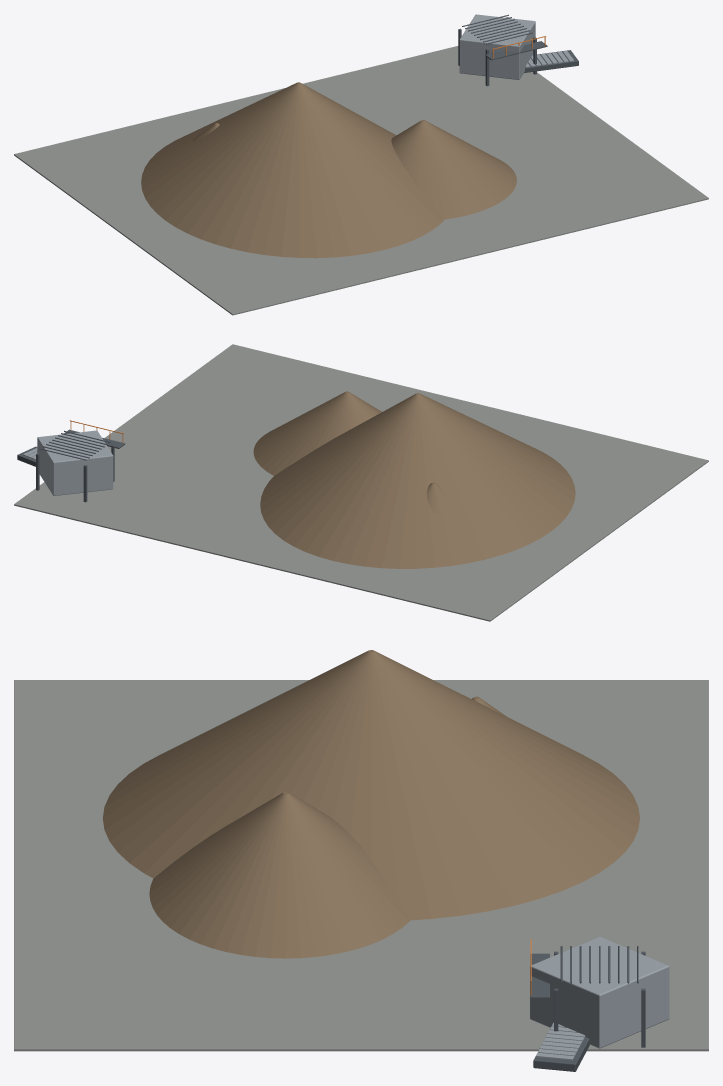
File: STOCKPILE-RECLAIM.glb
3 views of the same model, one above another, from view 1: azimuth 30°, elevation 25°; view 2: azimuth 150°, elevation 25°; view 3: azimuth 270°, elevation 25° (orthographic). The views are drawn at different scales.
Parts seen in each view (by area): view 1: STOCKPILE-RECLAIM_PAD, STOCKPILE-RECLAIM, STOCKPILE-RECLAIM_HOPPER; view 2: STOCKPILE-RECLAIM_PAD, STOCKPILE-RECLAIM, STOCKPILE-RECLAIM_HOPPER; view 3: STOCKPILE-RECLAIM_PAD, STOCKPILE-RECLAIM, STOCKPILE-RECLAIM_HOPPER, STOCKPILE-RECLAIM_FEEDER.
Part boxes in pixels (x1,y1,x2,y2): STOCKPILE-RECLAIM_PAD: (14, 46, 708, 315); STOCKPILE-RECLAIM: (141, 14, 574, 258); STOCKPILE-RECLAIM_HOPPER: (459, 14, 535, 79); STOCKPILE-RECLAIM_PAD: (14, 344, 708, 621); STOCKPILE-RECLAIM: (23, 391, 575, 568); STOCKPILE-RECLAIM_HOPPER: (37, 430, 113, 495); STOCKPILE-RECLAIM_PAD: (14, 680, 708, 1051); STOCKPILE-RECLAIM: (102, 650, 639, 1060); STOCKPILE-RECLAIM_HOPPER: (530, 936, 669, 1048); STOCKPILE-RECLAIM_FEEDER: (533, 1033, 589, 1071).
Bounding box in the file's own units: 47.56 × 9.98 × 35.
